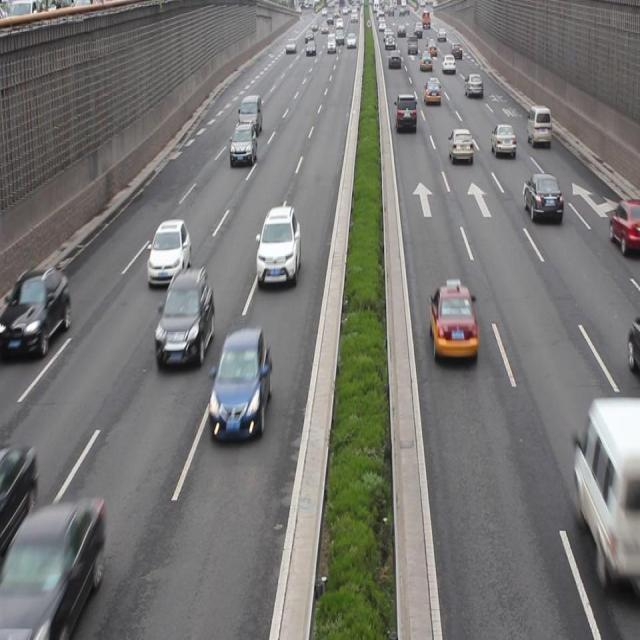car: (1, 501, 104, 626), (210, 331, 272, 439), (1, 271, 71, 356), (155, 272, 215, 368), (428, 281, 478, 367), (256, 206, 300, 292), (148, 220, 192, 292), (522, 173, 561, 224), (606, 197, 640, 247), (229, 121, 258, 169), (491, 124, 515, 160), (394, 95, 416, 134), (449, 126, 471, 164)
truck: (574, 399, 640, 581), (526, 103, 548, 148)
